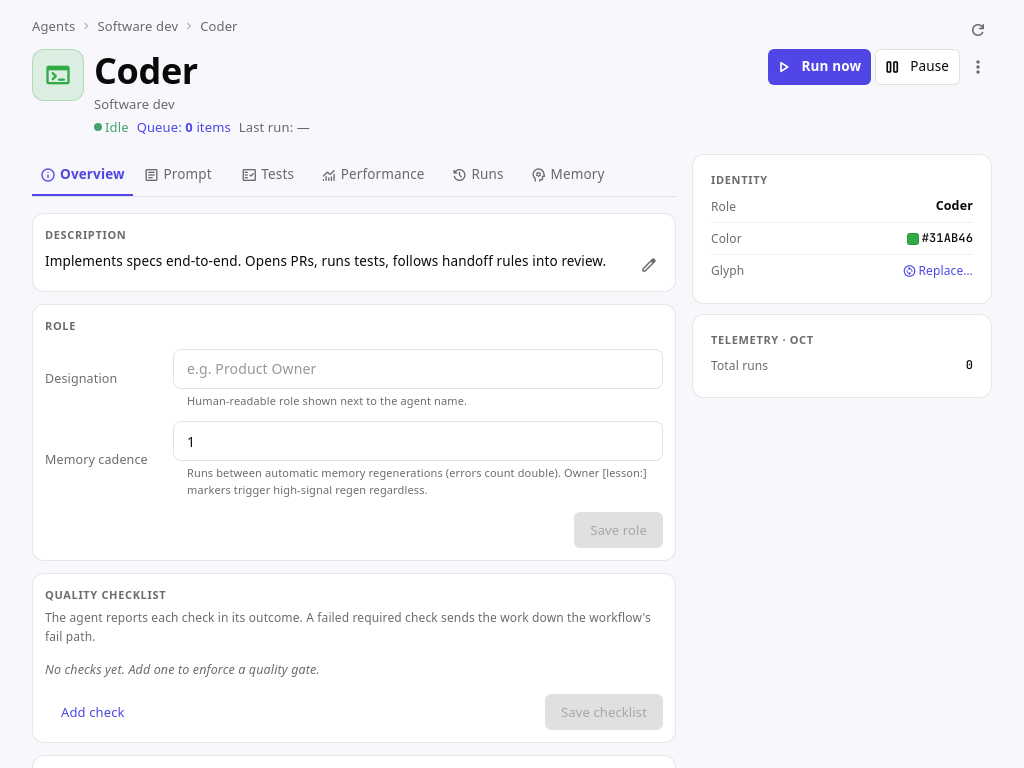
Test case: AgentDetail › Run now button › opens RunNowDialog when "Run now" is clicked
This screenshot has width=1024, height=768.
Click the button "Run now" at (819, 67), box [768,49,871,85]
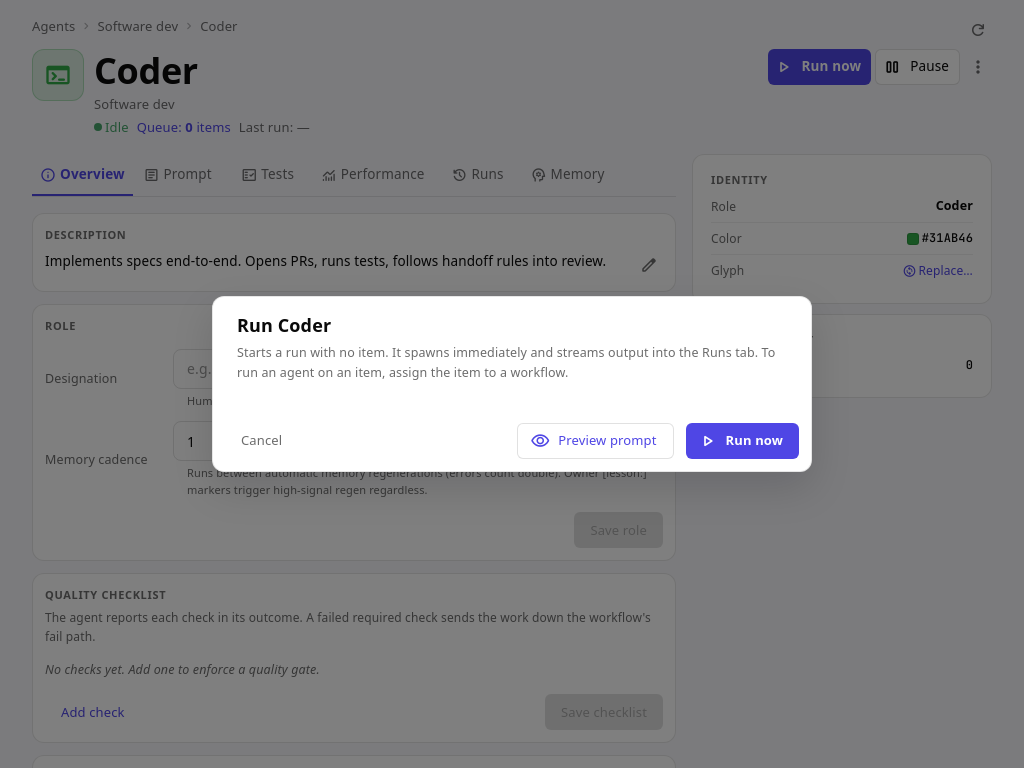
Expected: the dialog is shown, [212,296,812,472]
